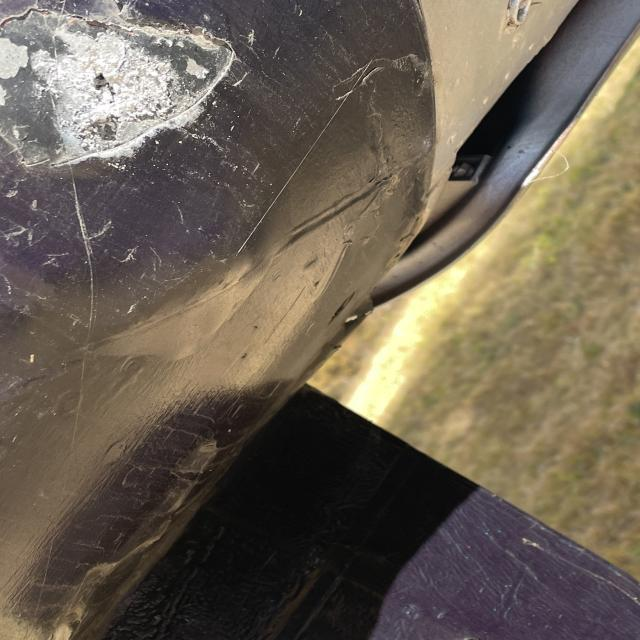dent: (1, 20, 250, 169)
